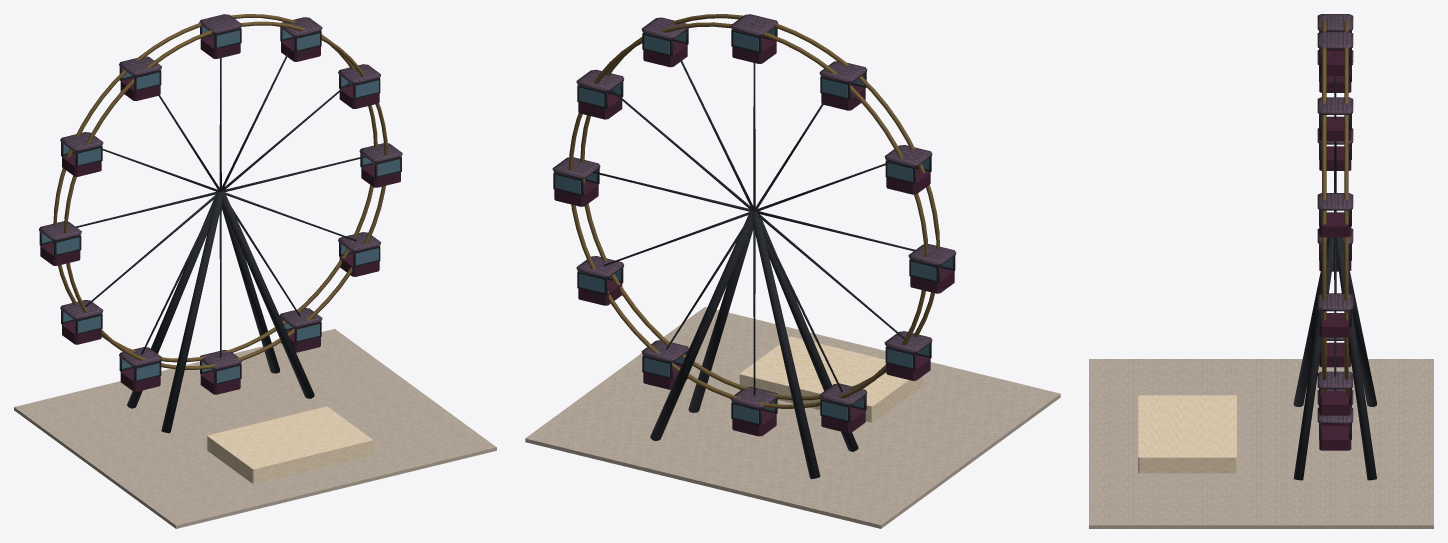
Rendered from finish_ferris_platform.glb.
The picture shows the model from 3 angles, left to right: view 1: azimuth 30°, elevation 25°; view 2: azimuth 150°, elevation 25°; view 3: azimuth 270°, elevation 25°; orthographic projection. The views are drawn at different scales.
Parts seen in each view (by area): view 1: Rebuilt_finish_ferris_platform; view 2: Rebuilt_finish_ferris_platform; view 3: Rebuilt_finish_ferris_platform.
Part boxes in pixels (x1=…): Rebuilt_finish_ferris_platform: x1=14, y1=14, x2=496, y2=528; Rebuilt_finish_ferris_platform: x1=525, y1=14, x2=1060, y2=528; Rebuilt_finish_ferris_platform: x1=1089, y1=14, x2=1433, y2=528.
Bounding box in the file's own units: 17.5 × 18.26 × 14.
7 materials, 6 textured.
